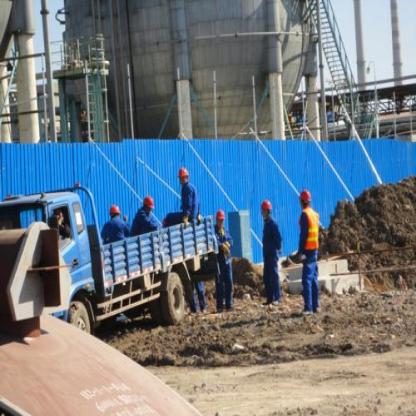helmet: (260, 197, 272, 223), (140, 193, 154, 214), (178, 166, 191, 186), (299, 188, 311, 209), (215, 206, 226, 228), (109, 203, 120, 219)
